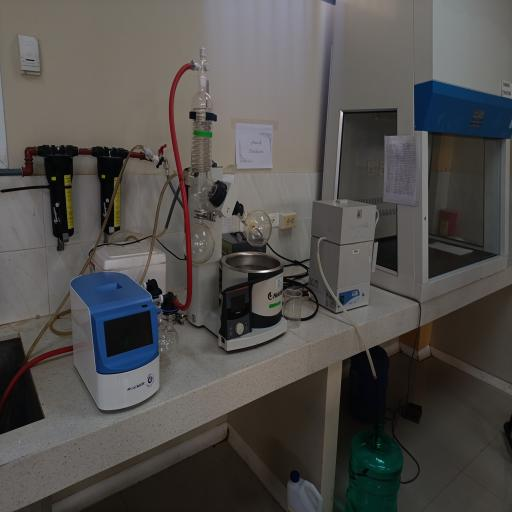Destilador_agua: (301, 190, 382, 320)
